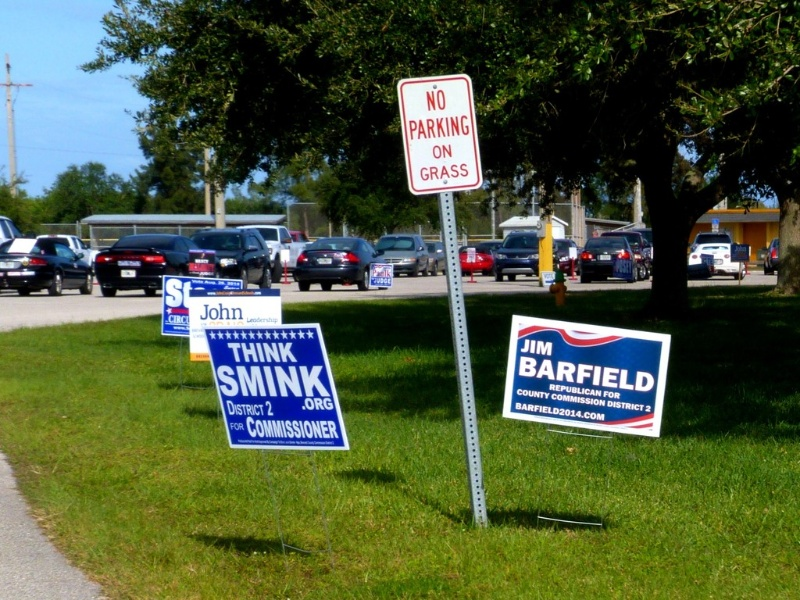no_parking: (393, 76, 486, 193)
